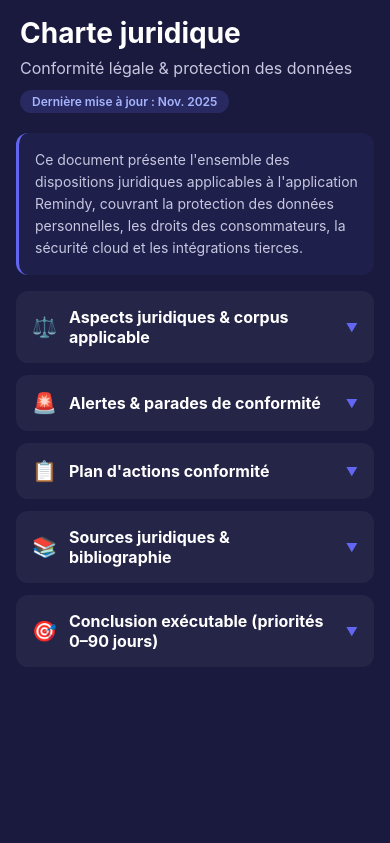
LegalScreen › should render alert-type paragraphs when alerts section is expanded
Note: Expand the 'alerts' section which contains alert-type paragraphs (line 236)
Click the element with test id "section-alerts" at coordinates (195, 403), box left=32, top=391, right=358, bottom=415
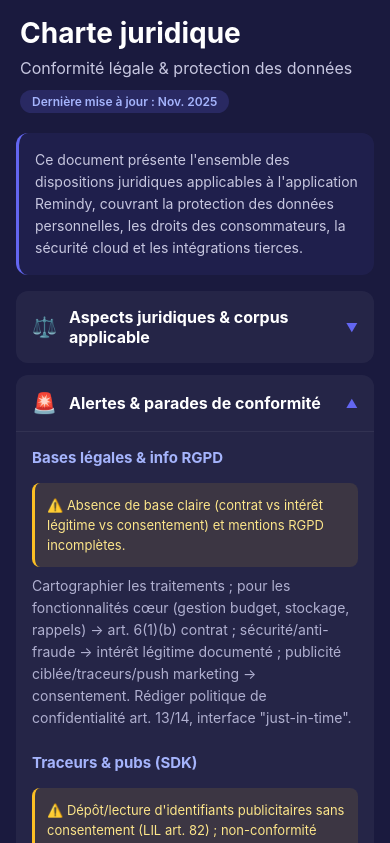
Now the text "Absence de base claire" is shown, box left=47, top=497, right=328, bottom=553
